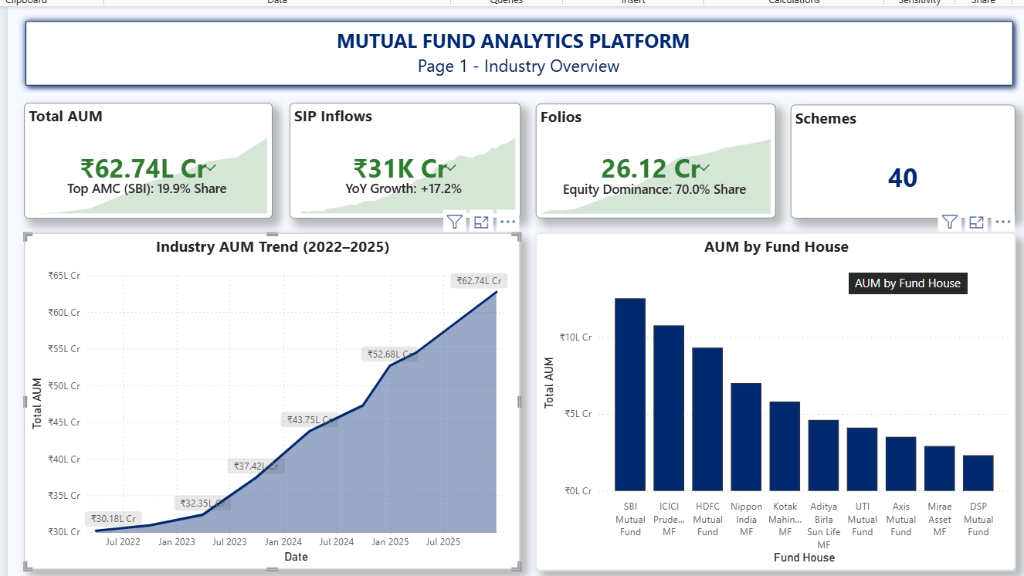

What the dashboard file says about the page in this screenshot:
{"tool":"powerbi","page":{"name":"Industry Overview","canvas":[1280,720],"ordinal":0},"visuals":[{"type":"lineChart","title":"Industry AUM Trend (2022–2025)","fields":{"Category":["Calender.Date"],"Y":["_Measures.Total AUM"]},"box":[20.3,284.1,620.3,420.3],"z":0},{"type":"kpi","title":"Total AUM","fields":{"Goal":["_Measures.AUM Target"],"Indicator":["_Measures.Total AUM"],"TrendLine":["Calender.Date"]},"box":[20.3,120.3,310.1,144.9],"z":1000},{"type":"kpi","title":"SIP Inflows","fields":{"Goal":["_Measures.SIP YoY Growth"],"Indicator":["_Measures.SIP Inflows"],"TrendLine":["Calender.Date"]},"box":[352.2,120.3,288.4,144.9],"z":2000},{"type":"kpi","title":"Folios","fields":{"Goal":["_Measures.Folios Equity Share"],"Indicator":["_Measures.Total Folio"],"TrendLine":["Calender.Date"]},"box":[659.4,121.7,300,143.5],"z":3000},{"type":"kpi","title":"Schemes","fields":{"Indicator":["_Measures.Total Schemes"],"TrendLine":["Calender.Date"]},"box":[978.3,123.2,281.2,142],"z":4000},{"type":"clusteredColumnChart","title":"AUM by Fund House","fields":{"Category":["03_aum_by_fund_house.fund_house"],"Y":["_Measures.Total AUM"]},"box":[659.4,284.1,600,421.7],"z":5000},{"type":"shape","title":"industry","box":[13,10.1,1252.2,98.6],"z":6000},{"type":"textbox","box":[29,21.7,1218.8,87],"z":7000}]}

Visuals, with their boxes on the page's 1280x720 design canvas (x1, y1, x2, y2). These are canvas units, not pixel positions in the 1024x576 screenshot, which may show the page scaled, cropped or inside an application window:
"Industry AUM Trend (2022–2025)" lineChart: x1=20 y1=284 x2=641 y2=704
"Total AUM" kpi: x1=20 y1=120 x2=330 y2=265
"SIP Inflows" kpi: x1=352 y1=120 x2=641 y2=265
"Folios" kpi: x1=659 y1=122 x2=959 y2=265
"Schemes" kpi: x1=978 y1=123 x2=1260 y2=265
"AUM by Fund House" clusteredColumnChart: x1=659 y1=284 x2=1259 y2=706
"industry" shape: x1=13 y1=10 x2=1265 y2=109
textbox: x1=29 y1=22 x2=1248 y2=109
